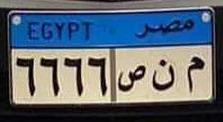6: (39, 55, 60, 97), (87, 55, 108, 95), (64, 55, 83, 97), (16, 55, 35, 95)
meem: (182, 49, 207, 96)
noon: (149, 54, 178, 96)
saad: (119, 61, 146, 92)
